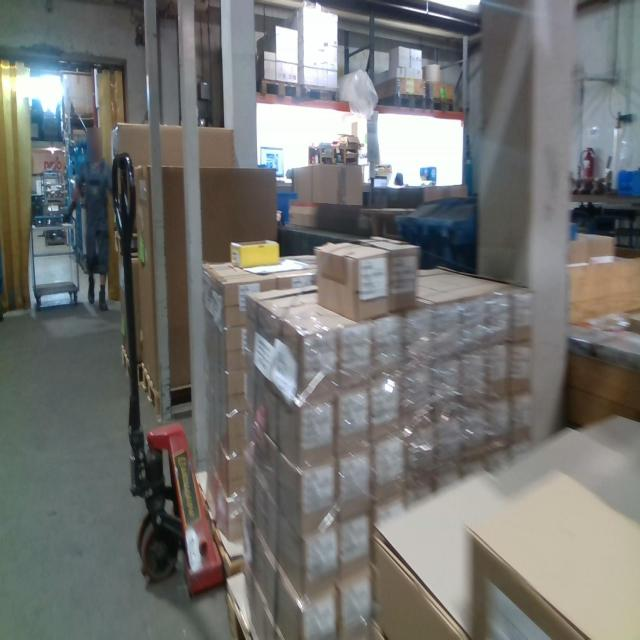pallet: (189, 474, 246, 571), (226, 573, 293, 637), (141, 363, 194, 418), (377, 90, 424, 116), (257, 79, 301, 102), (119, 346, 140, 385), (300, 83, 339, 102), (426, 99, 457, 117)
pallet_truck: (103, 143, 228, 601)
